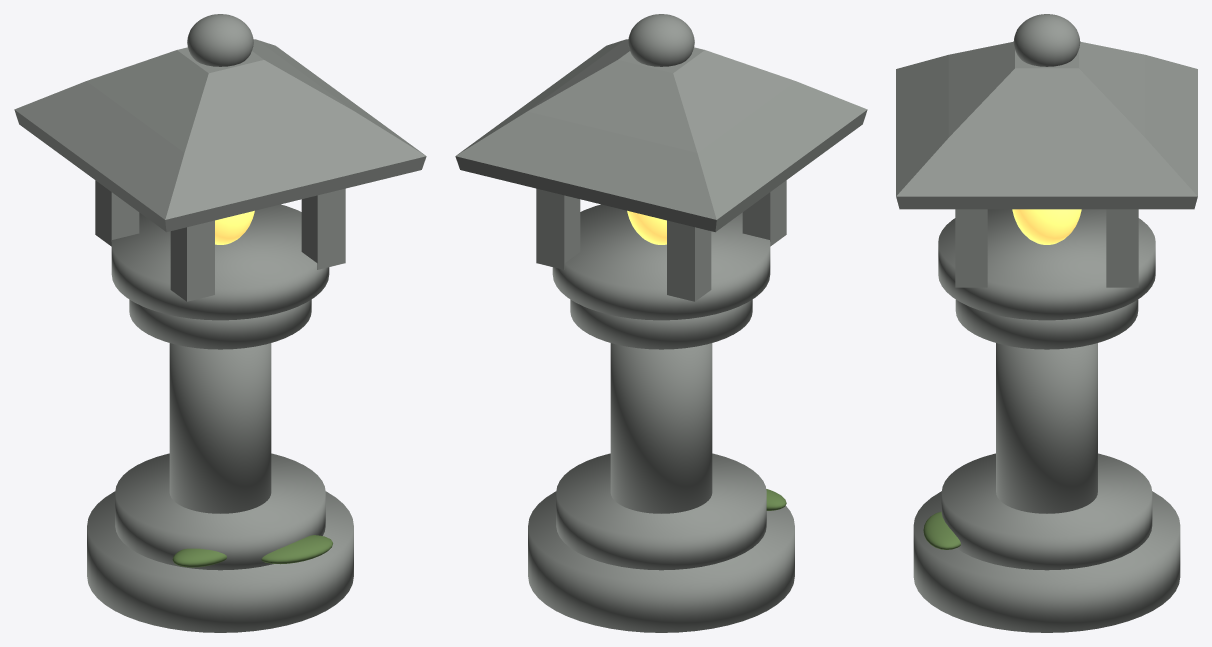
File: 02_Stone_Lantern.glb
3 renders of one model, left to right at view 1: azimuth 30°, elevation 25°; view 2: azimuth 150°, elevation 25°; view 3: azimuth 270°, elevation 25°, orthographic.
Visible parts, largest first — view 1: Curved stone cap, Carved pedestal, Carved pedestal.002, Carved pedestal.004, Carved pedestal.001, Carved pedestal.003, Window pillar, Window pillar.002, Roof finial, Window pillar.001, Moss patch, Lantern ember (+1 smaller); view 2: Curved stone cap, Carved pedestal, Carved pedestal.002, Carved pedestal.001, Carved pedestal.004, Carved pedestal.003, Window pillar.001, Window pillar.003, Roof finial, Window pillar, Lantern ember; view 3: Curved stone cap, Carved pedestal, Carved pedestal.002, Carved pedestal.001, Carved pedestal.004, Carved pedestal.003, Roof finial, Window pillar.002, Window pillar.003, Lantern ember, Moss patch.
Part boxes in pixels (x1=…): Curved stone cap: x1=14, y1=39, x2=426, y2=232; Carved pedestal: x1=87, y1=491, x2=353, y2=632; Carved pedestal.002: x1=169, y1=343, x2=271, y2=513; Carved pedestal.004: x1=111, y1=204, x2=329, y2=320; Carved pedestal.001: x1=115, y1=453, x2=325, y2=570; Carved pedestal.003: x1=129, y1=299, x2=311, y2=349; Window pillar: x1=170, y1=220, x2=214, y2=301; Window pillar.002: x1=301, y1=188, x2=345, y2=269; Roof finial: x1=187, y1=14, x2=253, y2=66; Window pillar.001: x1=95, y1=180, x2=139, y2=246; Moss patch: x1=261, y1=535, x2=332, y2=564; Lantern ember: x1=215, y1=210, x2=254, y2=244; Curved stone cap: x1=455, y1=39, x2=867, y2=232; Carved pedestal: x1=528, y1=491, x2=794, y2=632; Carved pedestal.002: x1=610, y1=343, x2=712, y2=513; Carved pedestal.001: x1=556, y1=453, x2=766, y2=570; Carved pedestal.004: x1=552, y1=204, x2=770, y2=320; Carved pedestal.003: x1=570, y1=299, x2=752, y2=349; Window pillar.001: x1=667, y1=220, x2=711, y2=301; Window pillar.003: x1=536, y1=188, x2=580, y2=269; Roof finial: x1=628, y1=14, x2=694, y2=66; Window pillar: x1=742, y1=180, x2=786, y2=246; Lantern ember: x1=627, y1=210, x2=666, y2=244; Curved stone cap: x1=896, y1=41, x2=1197, y2=209; Carved pedestal: x1=913, y1=491, x2=1180, y2=632; Carved pedestal.002: x1=996, y1=343, x2=1097, y2=513; Carved pedestal.001: x1=941, y1=453, x2=1152, y2=570; Carved pedestal.004: x1=938, y1=209, x2=1155, y2=320; Carved pedestal.003: x1=955, y1=299, x2=1138, y2=349; Roof finial: x1=1013, y1=14, x2=1080, y2=66; Window pillar.002: x1=955, y1=209, x2=987, y2=287; Window pillar.003: x1=1106, y1=209, x2=1138, y2=287; Lantern ember: x1=1012, y1=209, x2=1081, y2=244; Moss patch: x1=923, y1=511, x2=960, y2=549.
Size of the model in its own units: 0.86 by 1.76 by 0.86.
